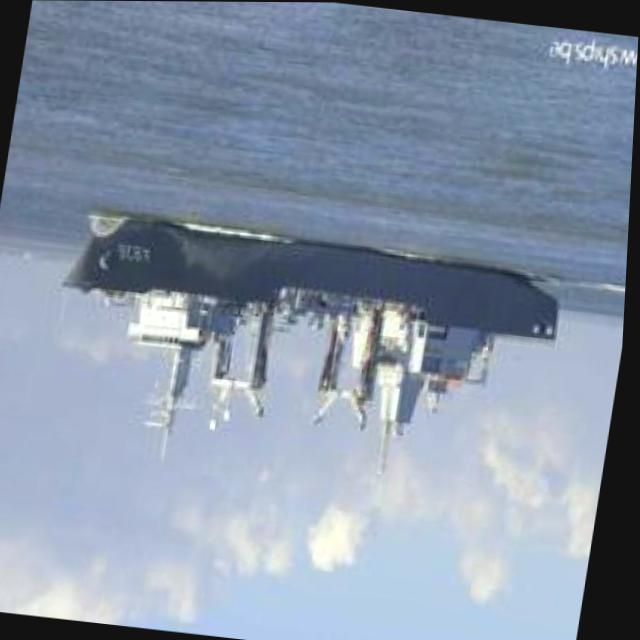ship2: (63, 214, 561, 507)
